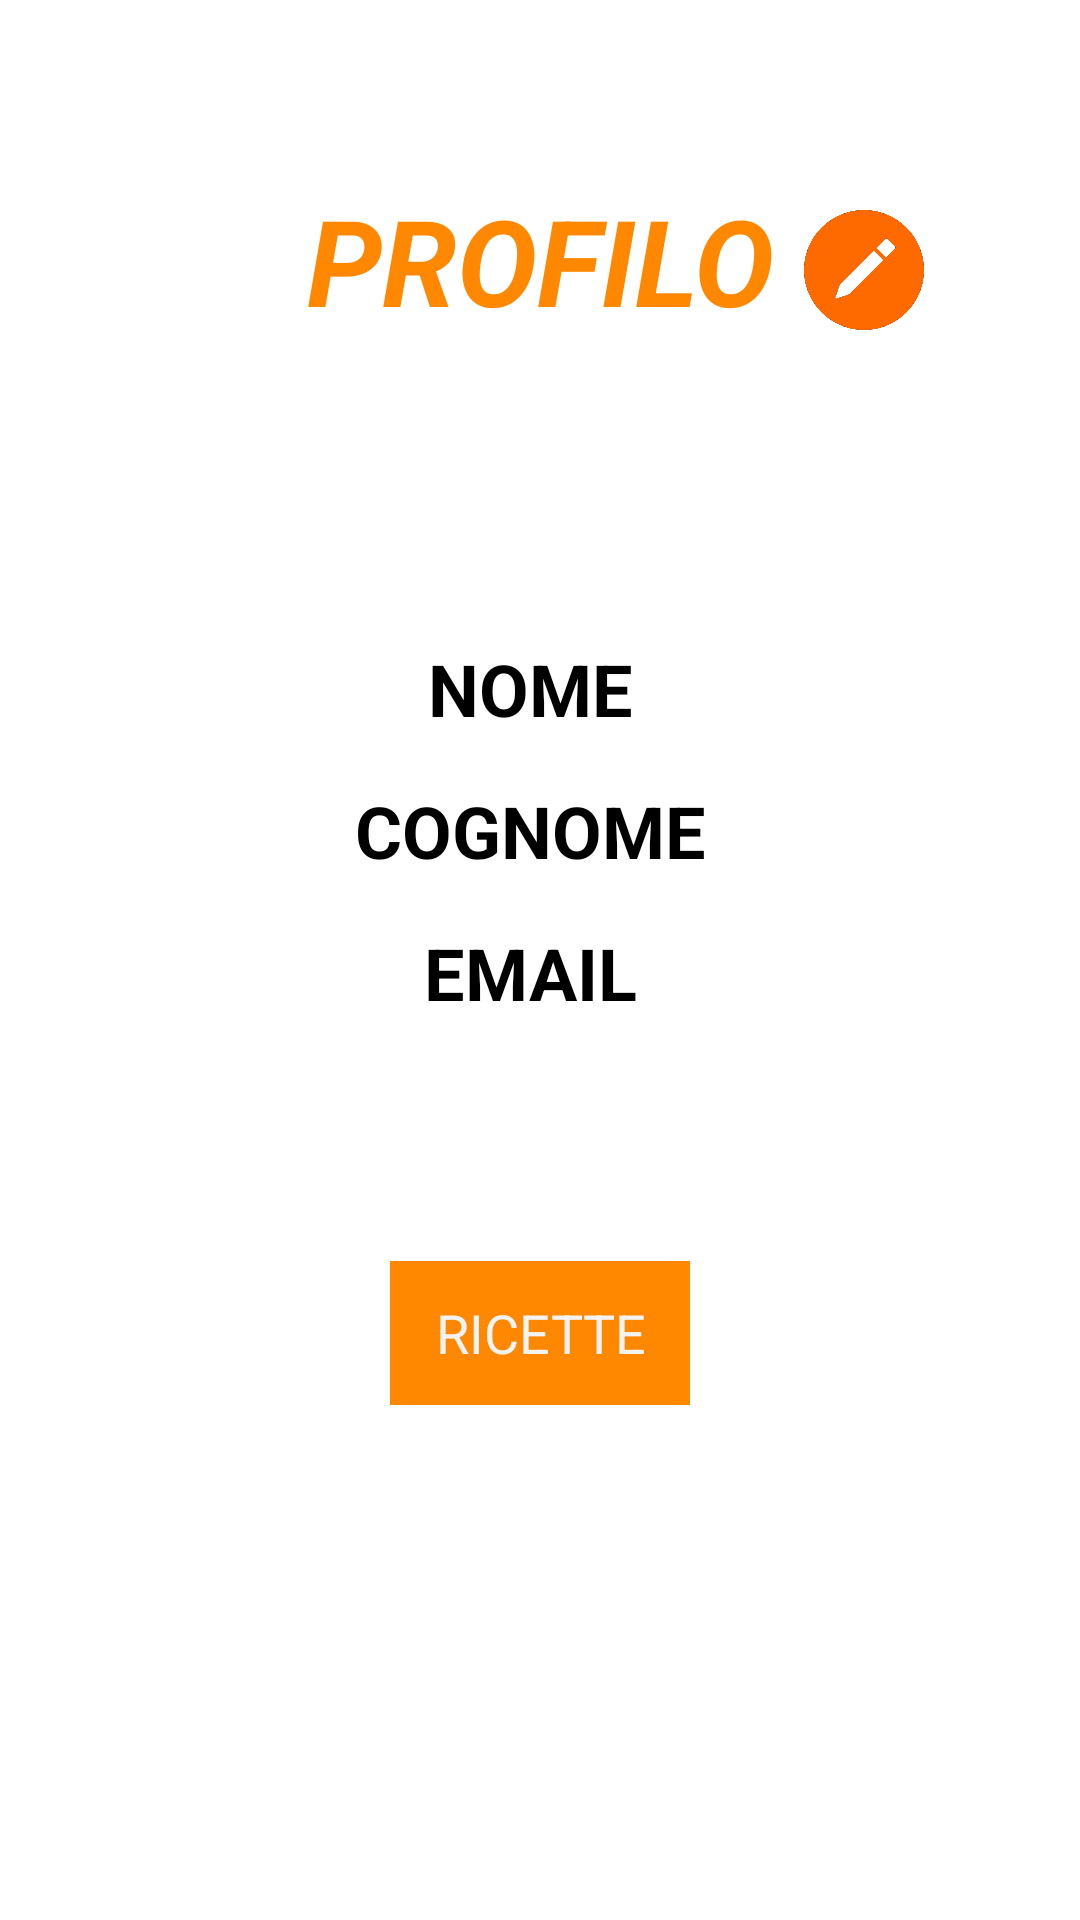

Named icons in this screenshot (1080×1920) and their centers, (x=x, y=y):
edit: (x=864, y=270)
